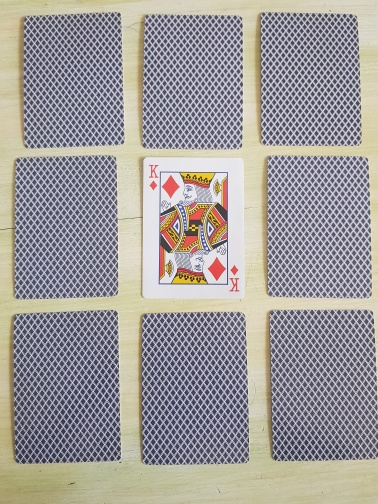king: (140, 156, 246, 300)
